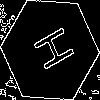H: (25, 25, 75, 77)
